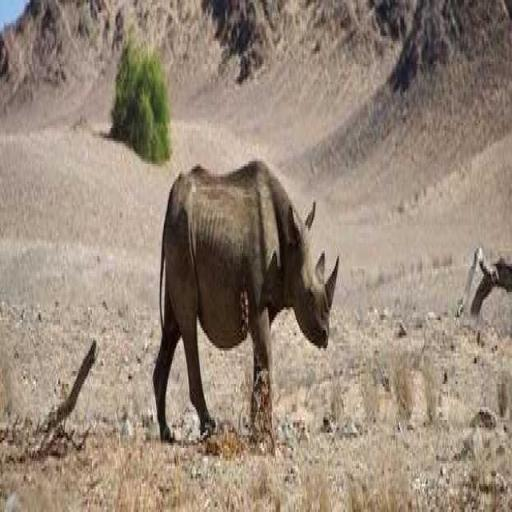Rhino: (152, 156, 338, 454)
